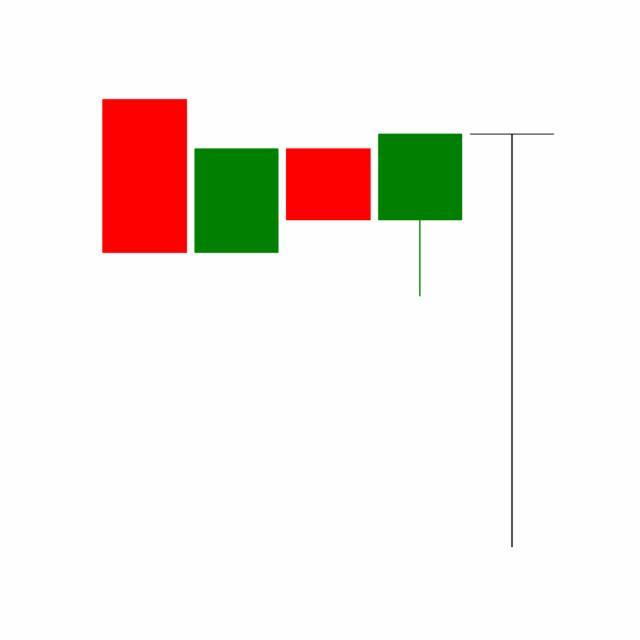Hanging Man: (466, 130, 559, 553)
